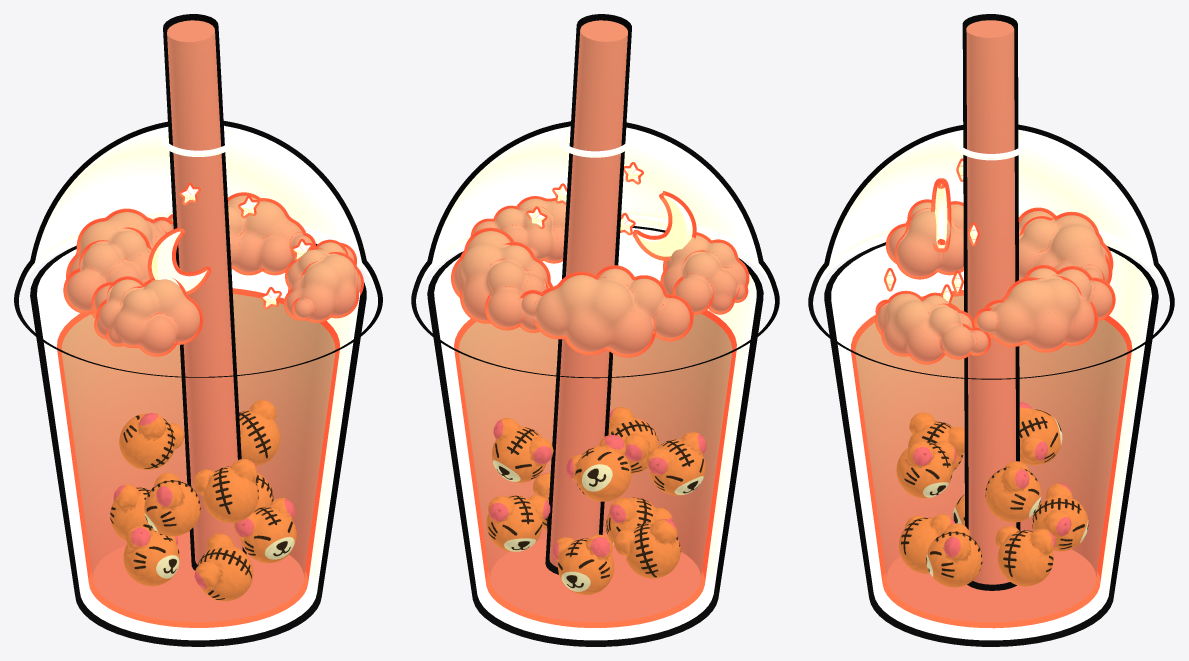
The model's file is all_in_one.glb.
The picture shows the model from 3 angles, left to right: view 1: azimuth 30°, elevation 25°; view 2: azimuth 150°, elevation 25°; view 3: azimuth 270°, elevation 25°; orthographic projection.
Visible parts, largest first — view 1: cup.001, straw.001, lid.001, cloud_small.002, cloud_big.001, cloud_big.003, cloud_big.002, tiger.003, tiger.014, tiger.015, tiger.016, tiger.011 (+4 smaller); view 2: cup.001, straw.001, lid.001, cloud_big.001, cloud_big.002, cloud_small.002, cloud_big.003, tiger.016, tiger.012, tiger.011, tiger.017, tiger.013 (+4 smaller); view 3: cup.001, straw.001, lid.001, cloud_big.002, cloud_big.003, cloud_big.001, cloud_small.002, tiger.013, tiger.003, tiger.014, tiger.017, tiger.012 (+4 smaller).
Boxes of the visible parts, bbox=[...] form: cup.001: bbox=[30, 243, 366, 646]; straw.001: bbox=[163, 14, 246, 570]; lid.001: bbox=[14, 121, 382, 377]; cloud_small.002: bbox=[91, 276, 202, 356]; cloud_big.001: bbox=[63, 208, 173, 318]; cloud_big.003: bbox=[283, 239, 363, 322]; cloud_big.002: bbox=[168, 192, 315, 275]; tiger.003: bbox=[193, 459, 258, 523]; tiger.014: bbox=[234, 497, 296, 563]; tiger.015: bbox=[194, 533, 253, 601]; tiger.016: bbox=[119, 412, 184, 469]; tiger.011: bbox=[123, 525, 179, 586]; cup.001: bbox=[427, 226, 763, 646]; straw.001: bbox=[545, 14, 631, 574]; lid.001: bbox=[411, 121, 779, 378]; cloud_big.001: bbox=[519, 265, 693, 357]; cloud_big.002: bbox=[451, 227, 552, 332]; cloud_small.002: bbox=[660, 232, 749, 315]; cloud_big.003: bbox=[470, 196, 566, 263]; tiger.016: bbox=[566, 435, 631, 501]; tiger.012: bbox=[552, 534, 614, 594]; tiger.011: bbox=[613, 519, 680, 578]; tiger.017: bbox=[491, 418, 553, 482]; tiger.013: bbox=[486, 495, 550, 551]; cup.001: bbox=[824, 242, 1158, 646]; straw.001: bbox=[962, 14, 1020, 590]; lid.001: bbox=[808, 124, 1174, 379]; cloud_big.002: bbox=[974, 265, 1115, 352]; cloud_big.003: bbox=[875, 290, 990, 364]; cloud_big.001: bbox=[1018, 207, 1113, 283]; cloud_small.002: bbox=[885, 199, 963, 279]; tiger.013: bbox=[995, 525, 1055, 586]; tiger.003: bbox=[896, 441, 956, 498]; tiger.014: bbox=[926, 523, 982, 587]; tiger.017: bbox=[985, 461, 1041, 522]; tiger.012: bbox=[1032, 483, 1088, 551].
Size of the model in its own units: 2.14 by 3.67 by 2.14.
7 materials, 2 textured.
